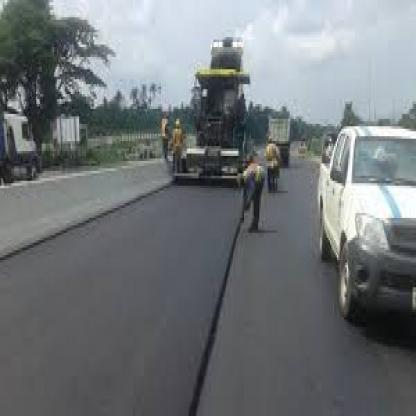car: (302, 92, 416, 355), (173, 27, 268, 231)
